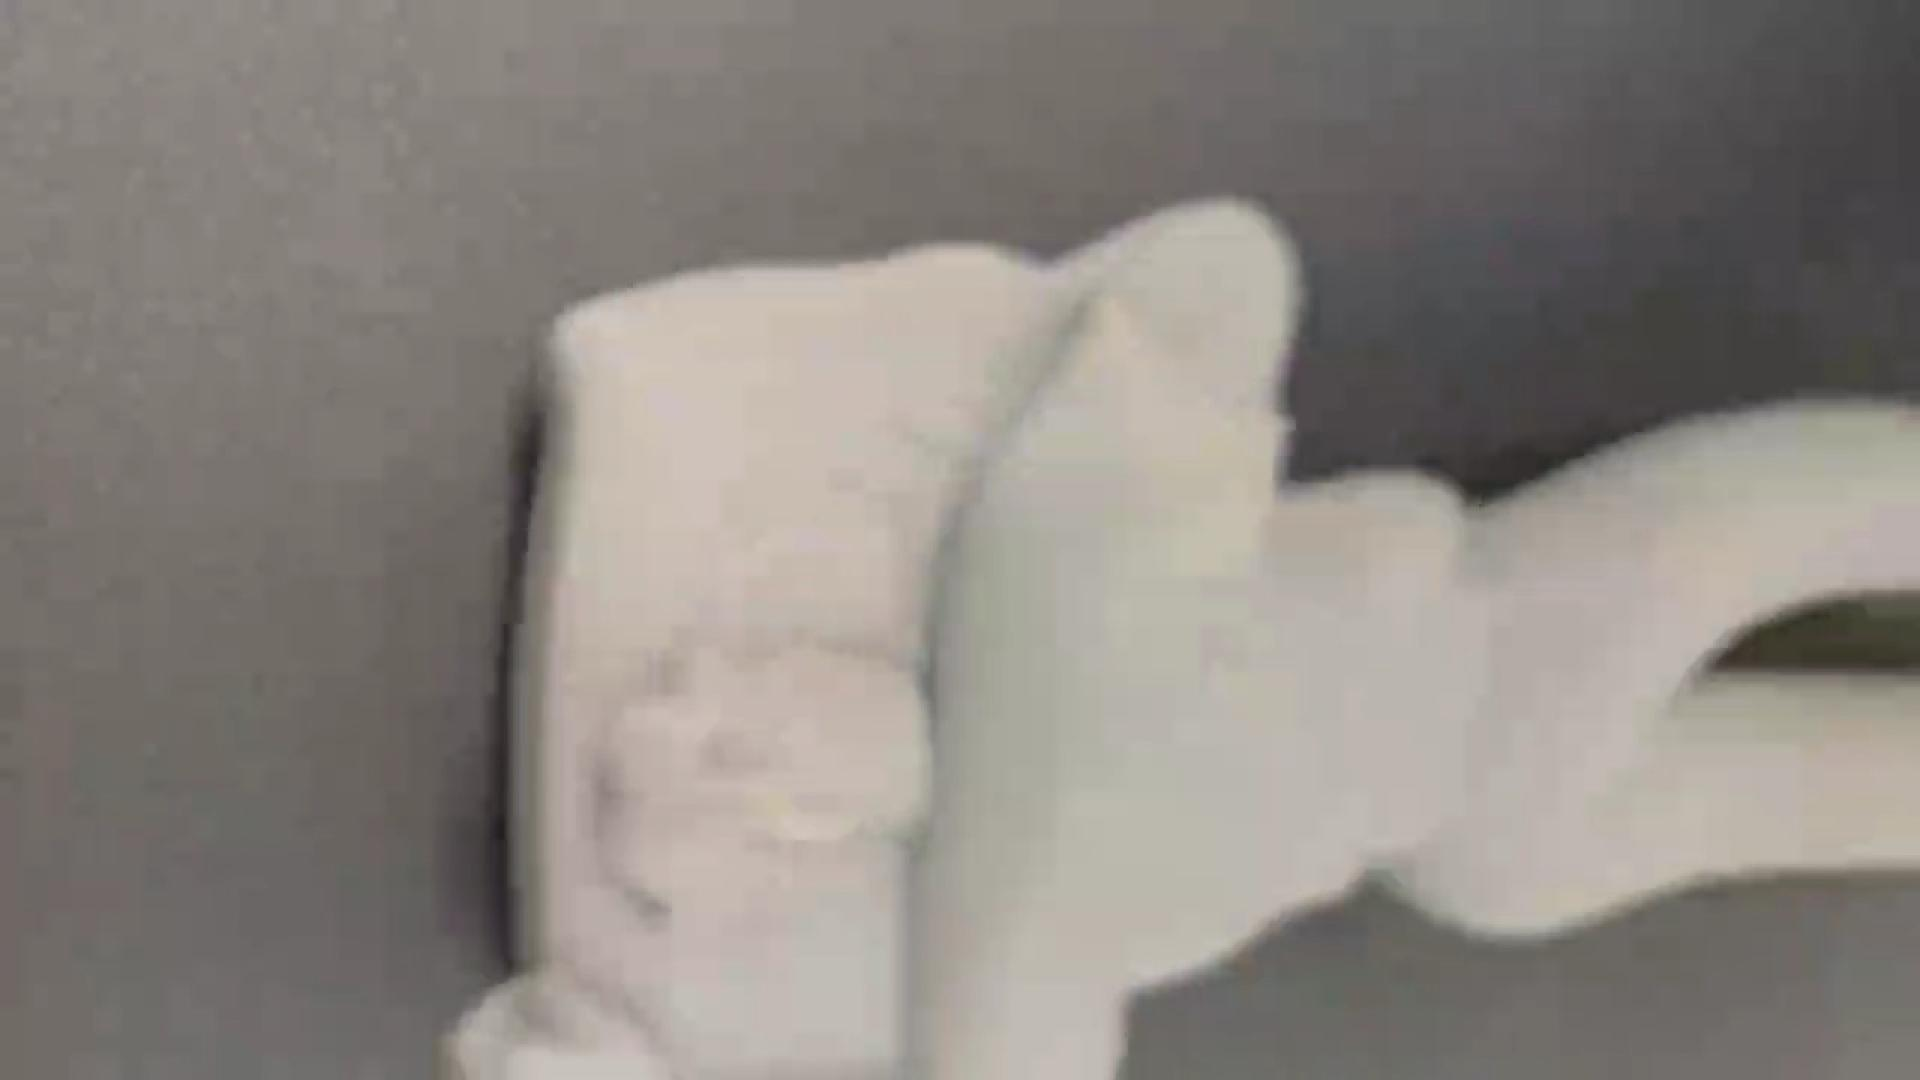Bad-style: (498, 198, 1920, 1080)
